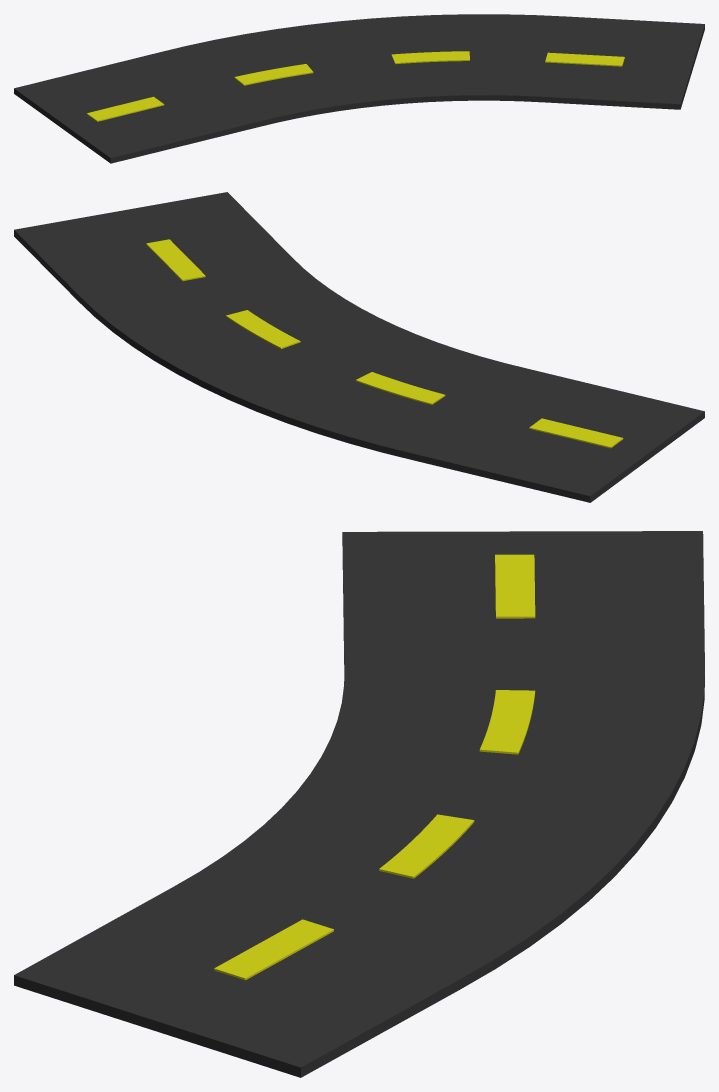
Rendered from road 30.fbx.
3 renders of one model, top to bottom at view 1: azimuth 30°, elevation 25°; view 2: azimuth 150°, elevation 25°; view 3: azimuth 270°, elevation 25°, orthographic. The views are drawn at different scales.
Visible parts, largest first — view 1: box005; view 2: box005; view 3: box005.
Boxes of the visible parts, x1,y1,x2,y2 form: box005: (14, 14, 704, 163); box005: (14, 192, 704, 502); box005: (14, 531, 704, 1077).
Bounding box in the file's own units: 343 × 4.27 × 186.
